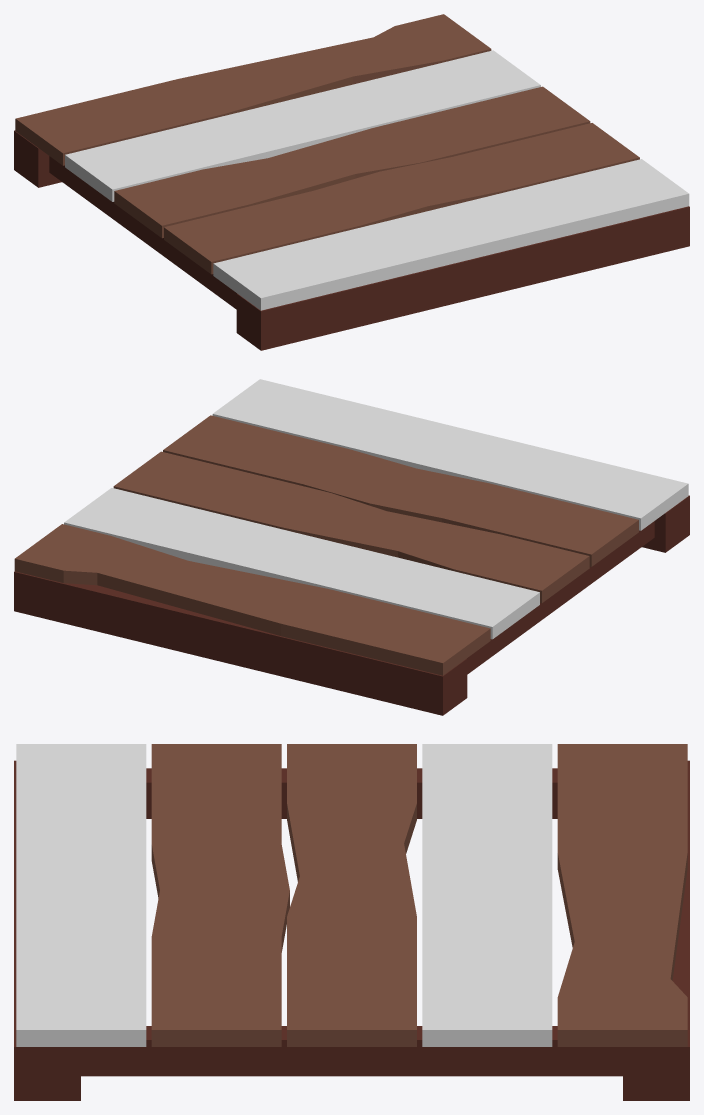
File: ScrapFloor2.fbx
3 views of the same model, one above another, from view 1: azimuth 30°, elevation 25°; view 2: azimuth 150°, elevation 25°; view 3: azimuth 270°, elevation 25° (orthographic). The views are drawn at different scales.
Visible parts, largest first — view 1: Cube; view 2: Cube; view 3: Cube.
Boxes of the visible parts, x1=… form: Cube: x1=14, y1=14, x2=689, y2=350; Cube: x1=14, y1=379, x2=689, y2=715; Cube: x1=14, y1=744, x2=689, y2=1100.
Bounding box in the file's own units: 200 × 23.14 × 200.
